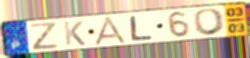6: (167, 10, 193, 39)
A: (92, 15, 130, 46)
K: (62, 19, 88, 47)
L: (128, 15, 155, 42)
O: (193, 7, 228, 37)
Z: (30, 21, 60, 51)
